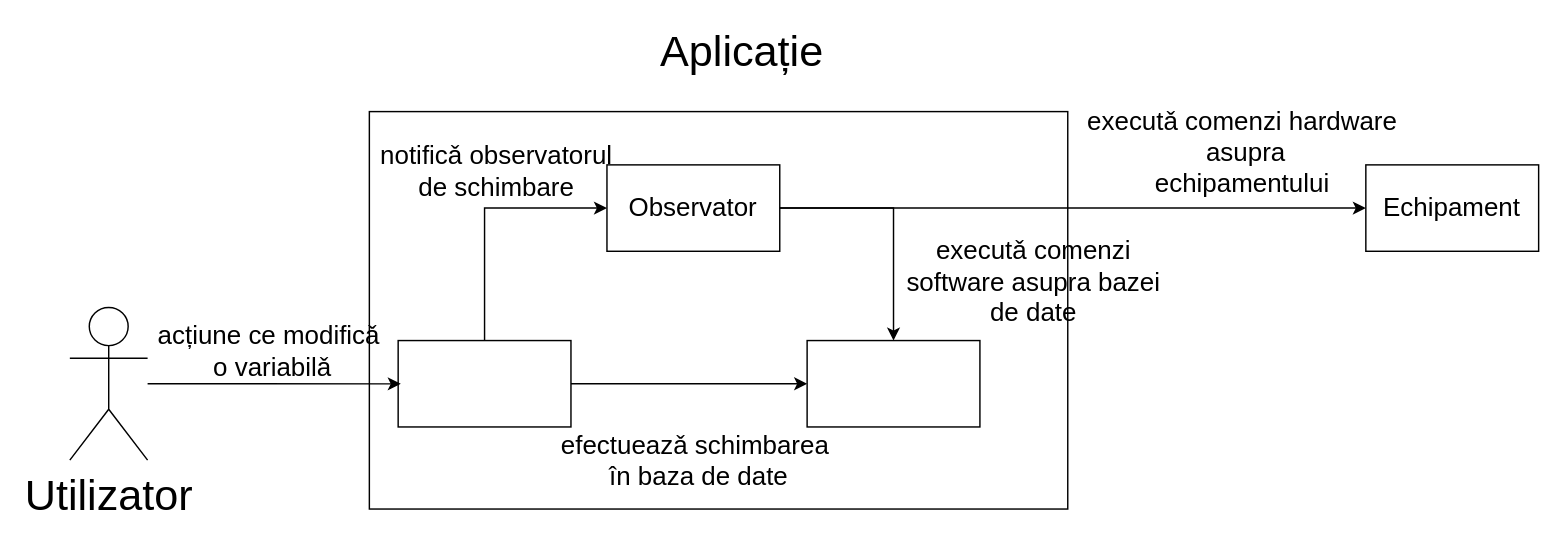
Some shapes in this 1564 by 546 pixel diagram are drawn without their labels. Here are the shapes that lost their labels. From the top down, the centre of each, then its label:
(x=484, y=383): Endpoint Django
(x=893, y=383): Bazǎ de date
